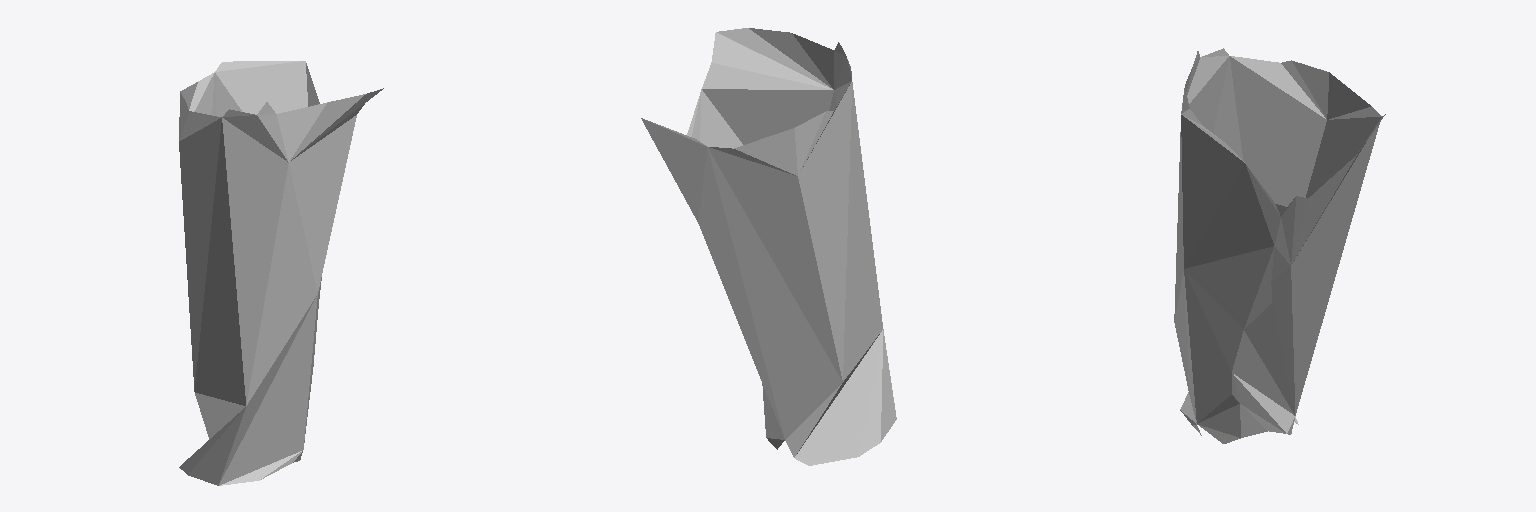
The model's file is muslo2.obj.
3 views of the same model, side by side, from view 1: azimuth 30°, elevation 25°; view 2: azimuth 150°, elevation 25°; view 3: azimuth 270°, elevation 25° (orthographic).
Visible parts, largest first — view 1: muslo2:Humano_01Business_01_30K_001; view 2: muslo2:Humano_01Business_01_30K_001; view 3: muslo2:Humano_01Business_01_30K_001.
Part boxes in pixels (left/top/right/bottom): muslo2:Humano_01Business_01_30K_001: left=179, top=61, right=383, bottom=485; muslo2:Humano_01Business_01_30K_001: left=641, top=28, right=896, bottom=465; muslo2:Humano_01Business_01_30K_001: left=1174, top=48, right=1385, bottom=443.
Size of the model in its own units: 0.1139 by 0.2306 by 0.1152.